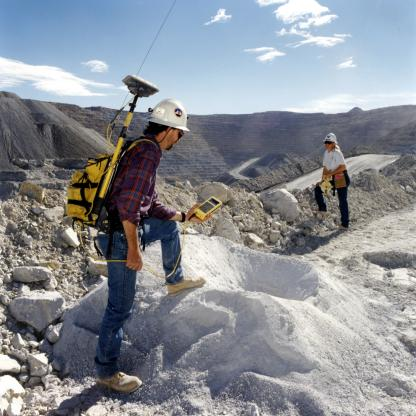person: (79, 71, 216, 390), (307, 126, 346, 242)
